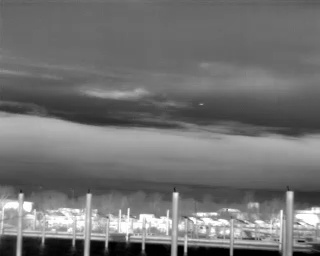BIRD: (197, 100, 206, 108)
